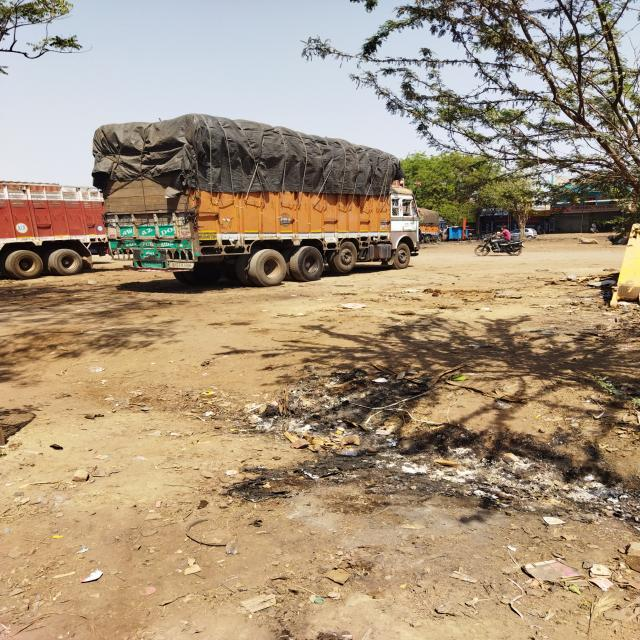Bike: (472, 236, 518, 256)
truck: (88, 117, 420, 268)
